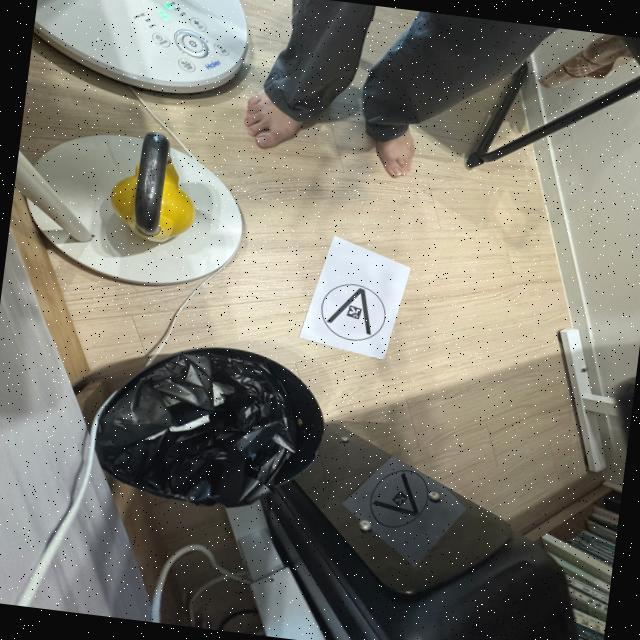ArUro mark: (314, 276, 398, 345), (364, 461, 440, 535)
